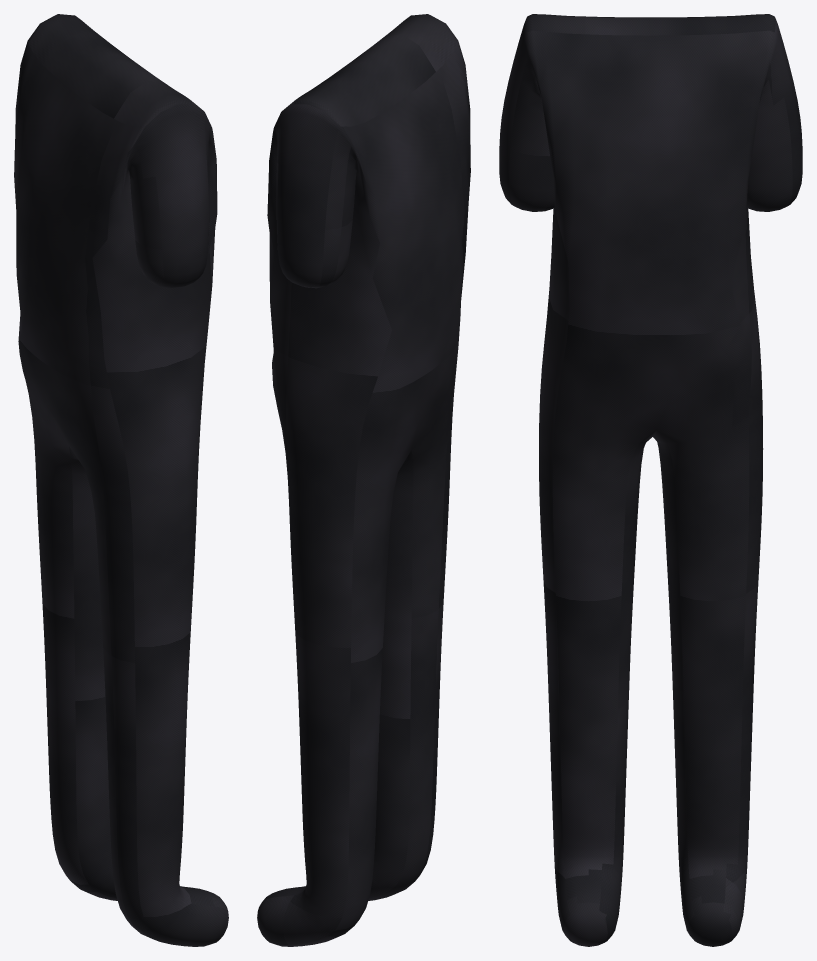
File: Zombie_Clothes.obj
3 views of the same model, side by side, from view 1: azimuth 30°, elevation 25°; view 2: azimuth 150°, elevation 25°; view 3: azimuth 270°, elevation 25° (orthographic). The views are drawn at different scales.
Bounding box in the file's own units: 0.2839 × 1.6 × 0.4878.
Materials: 1 (1 with a texture image).
